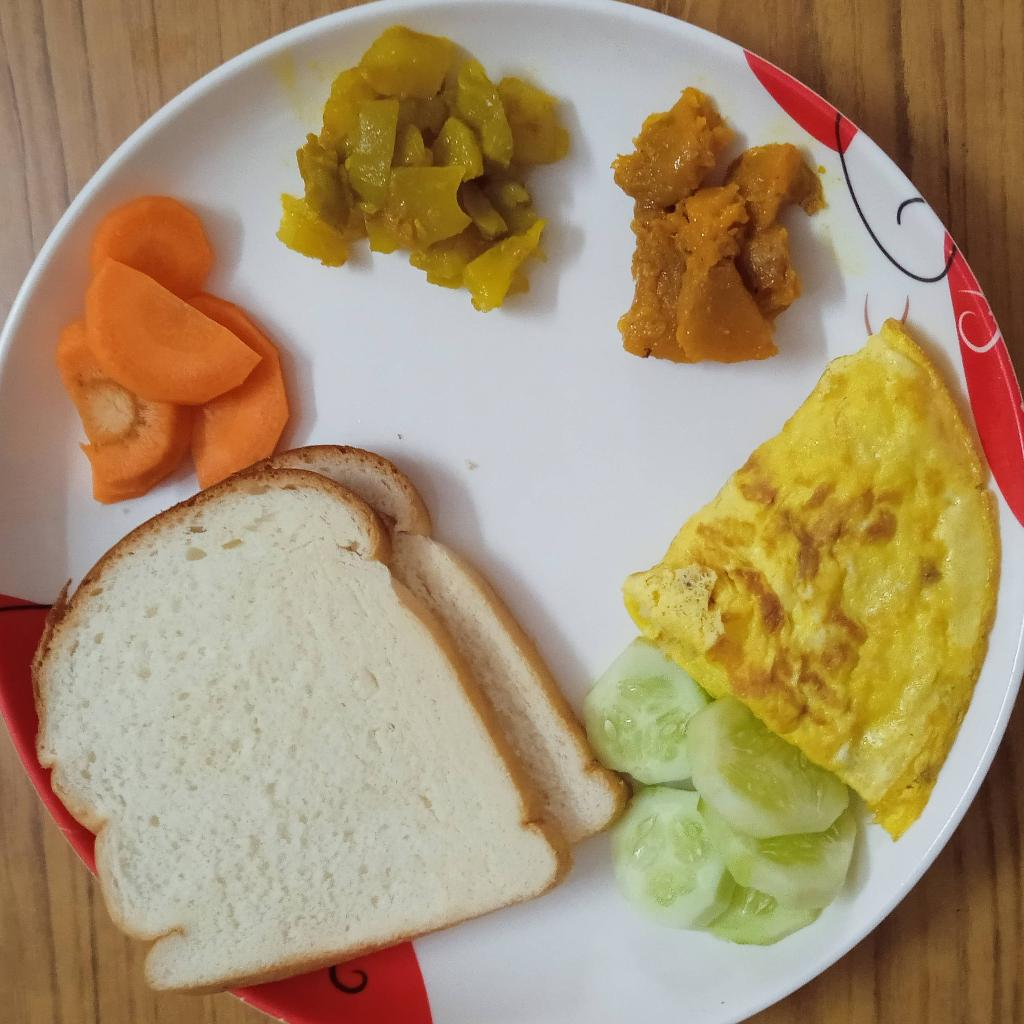bread: (32, 445, 624, 988)
carrot: (52, 187, 285, 501)
cucumber: (584, 646, 860, 949)
egg-poached: (623, 320, 1004, 838)
kumra-vaji: (612, 93, 829, 355)
lau: (272, 24, 567, 307)
